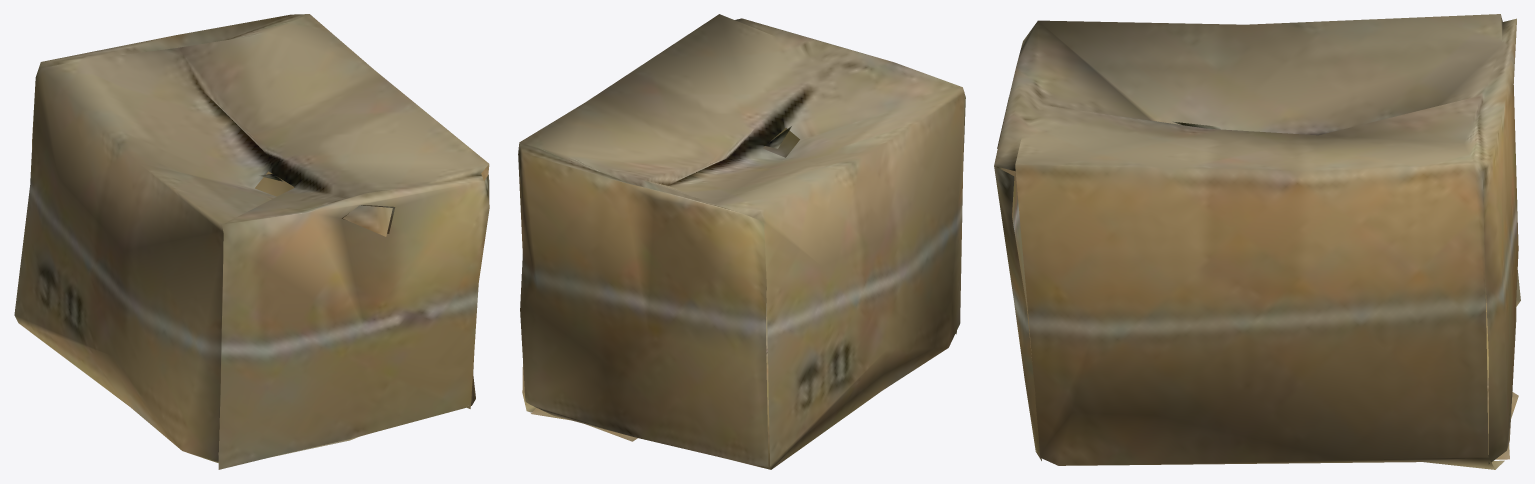
File: caixa_papelao.glb
3 renders of one model, left to right at view 1: azimuth 30°, elevation 25°; view 2: azimuth 150°, elevation 25°; view 3: azimuth 270°, elevation 25°, orthographic. The views are drawn at different scales.
Parts seen in each view (by area): view 1: Malha; view 2: Malha; view 3: Malha.
Boxes of the visible parts, x1,y1,x2,y2 form: Malha: (14,14,489,469); Malha: (518,14,965,469); Malha: (994,14,1520,469).
Bounding box in the file's own units: 0.3867 × 0.3412 × 0.5167.
1 material, 1 textured.
